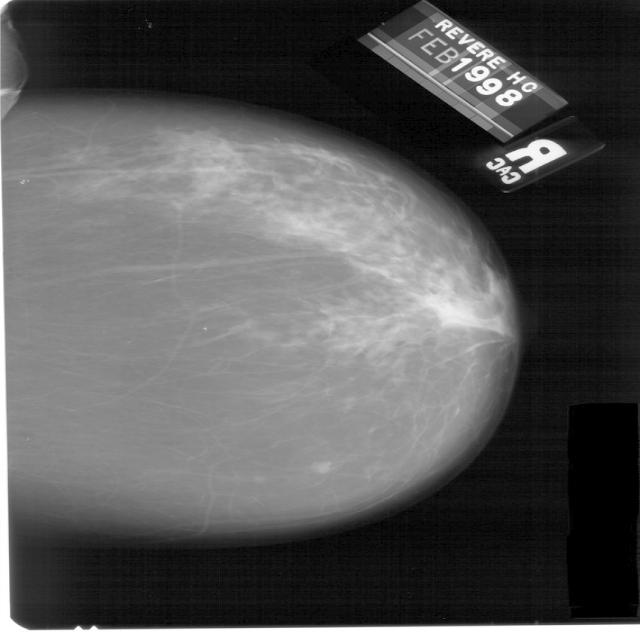tumour: (308, 458, 332, 474)
